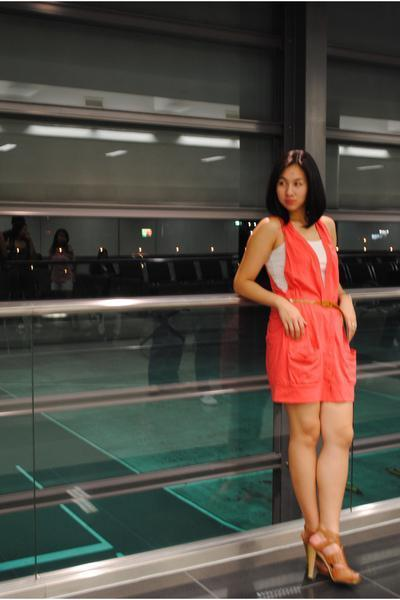dress: (266, 216, 356, 403)
shirt: (267, 240, 326, 299)
shoe: (291, 502, 358, 582)
